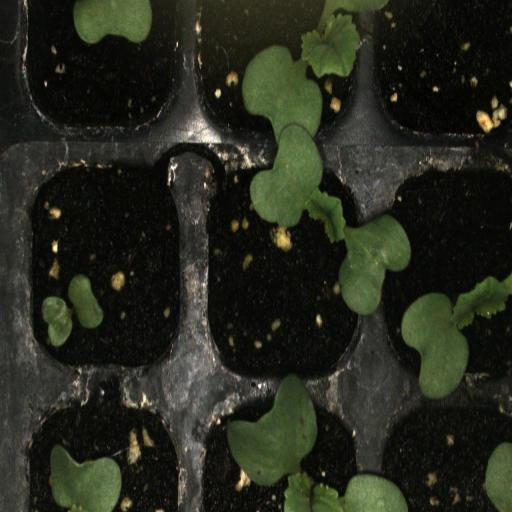seedling: (196, 155, 373, 390), (376, 152, 512, 389), (194, 0, 364, 149), (194, 392, 374, 512)
weak: (22, 158, 195, 376)
